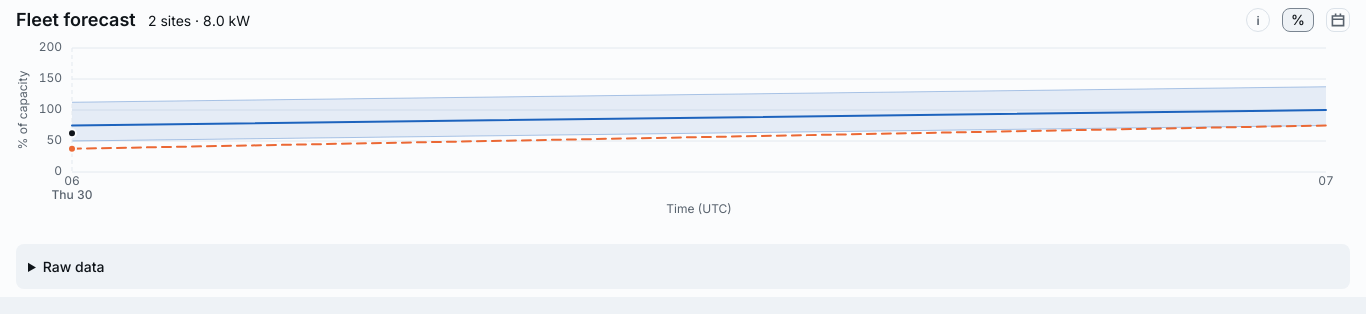
FleetPanel with a site selected › names the site in the chart’s legend, since a mark’s colour never names it alone
Click the button named "About this chart". click: (1258, 20)
box: top-left (1246, 8), bottom-right (1270, 32)
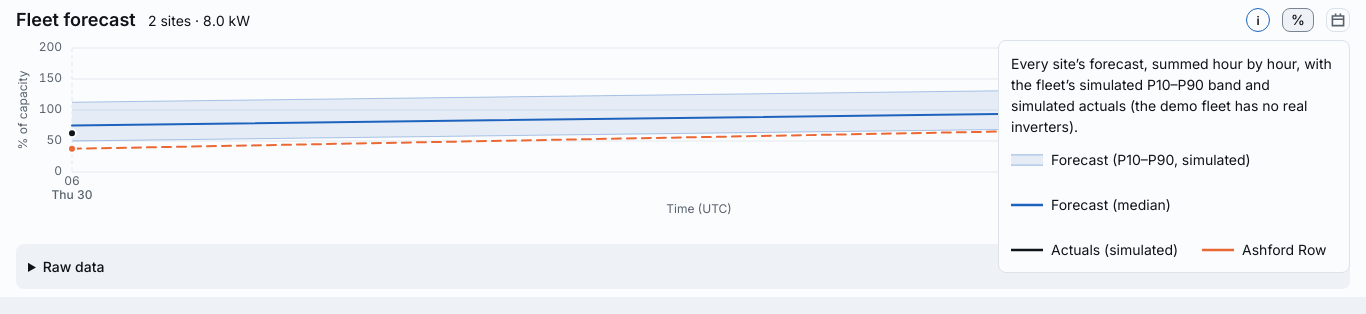
Expected: the list with class "forecast-chart-legend" shows "Ashford Row", top-left (1242, 241), bottom-right (1327, 258)
